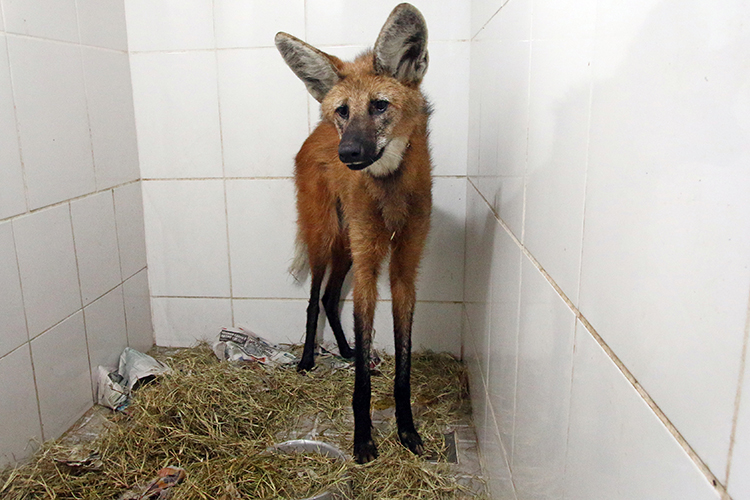LoboGuara: (257, 1, 469, 471)
